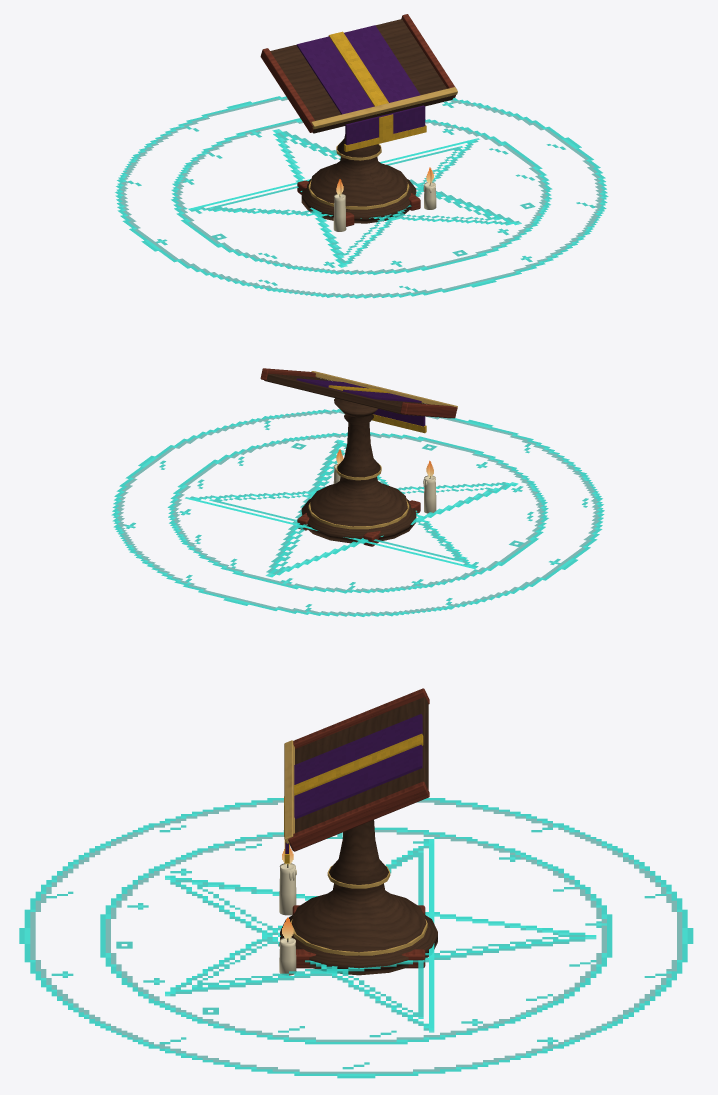
File: occultAltar.glb
The picture shows the model from 3 angles, top to bottom: view 1: azimuth 30°, elevation 25°; view 2: azimuth 150°, elevation 25°; view 3: azimuth 270°, elevation 25°; orthographic projection. The views are drawn at different scales.
Visible parts, largest first — view 1: occultAltar; view 2: occultAltar; view 3: occultAltar.
Part boxes in pixels (bbox=[...]): occultAltar: bbox=[115, 14, 608, 298]; occultAltar: bbox=[111, 368, 604, 616]; occultAltar: bbox=[19, 688, 693, 1078].
Bounding box in the file's own units: 2.2 × 0.7302 × 2.2.
Materials: 9 (8 with a texture image).
